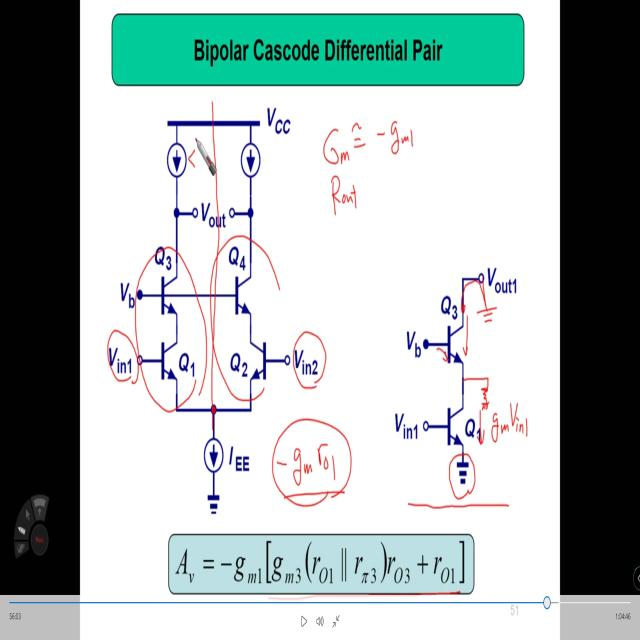panseo: (428, 258, 548, 526), (304, 100, 432, 234), (265, 404, 366, 510)
